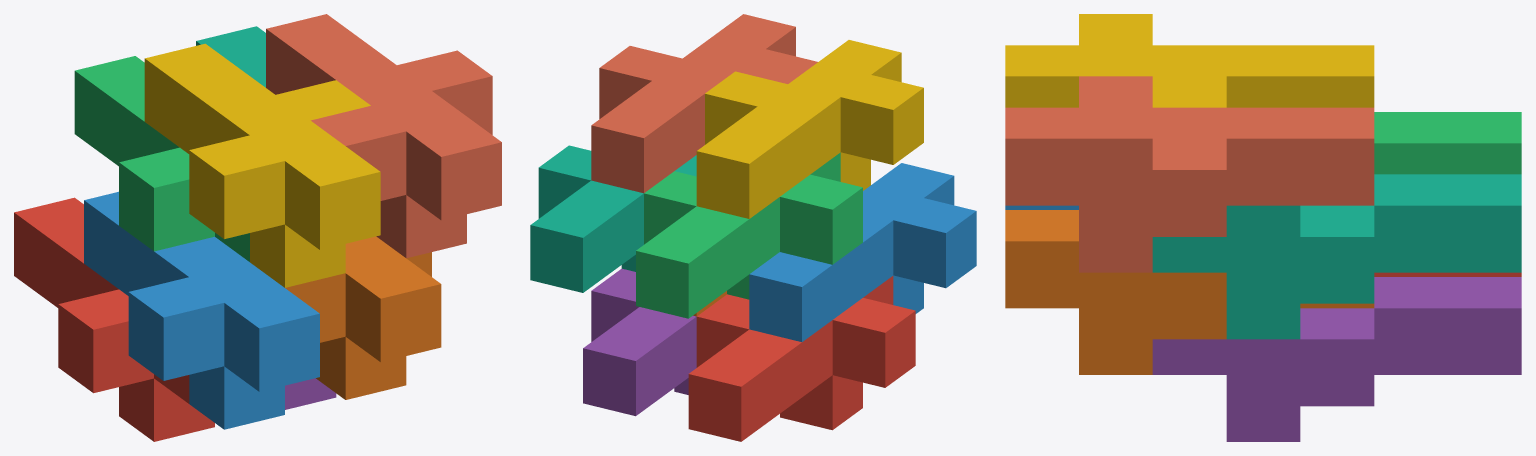
The model's file is tiling.obj.
The picture shows the model from 3 angles, left to right: view 1: azimuth 30°, elevation 25°; view 2: azimuth 150°, elevation 25°; view 3: azimuth 270°, elevation 25°; orthographic projection. The views are drawn at different scales.
Parts seen in each view (by area): view 1: copy_1_domain_4, copy_1_domain_8, copy_1_domain_2, copy_1_domain_1, copy_1_domain_6, copy_1_domain_3, copy_1_domain_7, copy_1_domain_5; view 2: copy_1_domain_4, copy_1_domain_1, copy_1_domain_3, copy_1_domain_2, copy_1_domain_8, copy_1_domain_7, copy_1_domain_5; view 3: copy_1_domain_8, copy_1_domain_7, copy_1_domain_5, copy_1_domain_4, copy_1_domain_6, copy_1_domain_3, copy_1_domain_1.
Boxes of the visible parts, bbox=[...] form: copy_1_domain_4: bbox=[144, 43, 380, 287]; copy_1_domain_8: bbox=[266, 14, 501, 258]; copy_1_domain_2: bbox=[84, 191, 319, 429]; copy_1_domain_1: bbox=[14, 197, 214, 441]; copy_1_domain_6: bbox=[285, 236, 441, 399]; copy_1_domain_3: bbox=[74, 56, 249, 261]; copy_1_domain_7: bbox=[196, 26, 265, 87]; copy_1_domain_5: bbox=[285, 378, 336, 409]; copy_1_domain_4: bbox=[696, 40, 923, 218]; copy_1_domain_1: bbox=[688, 276, 915, 441]; copy_1_domain_3: bbox=[636, 152, 862, 318]; copy_1_domain_2: bbox=[749, 163, 976, 341]; copy_1_domain_8: bbox=[591, 14, 817, 193]; copy_1_domain_7: bbox=[530, 145, 696, 292]; copy_1_domain_5: bbox=[583, 268, 696, 416]; copy_1_domain_8: bbox=[1005, 76, 1374, 272]; copy_1_domain_7: bbox=[1152, 174, 1521, 339]; copy_1_domain_5: bbox=[1152, 277, 1521, 441]; copy_1_domain_4: bbox=[1005, 14, 1374, 107]; copy_1_domain_6: bbox=[1005, 210, 1374, 374]; copy_1_domain_3: bbox=[1374, 112, 1521, 174]; copy_1_domain_1: bbox=[1374, 272, 1521, 276].
Bounding box in the file's own units: 6 × 5 × 7.
